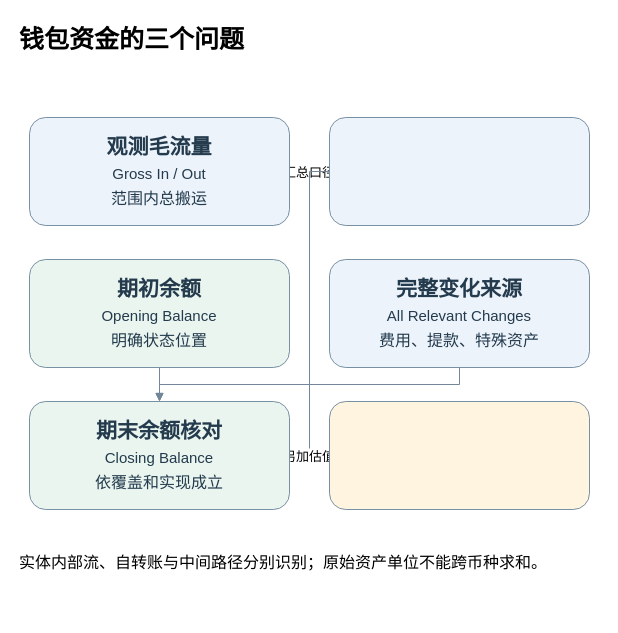
The diagram is 618 pixels wide and 633 high, and some of its shapes have lost their labels. Here are the shapes that lost their labels. From the top down, the box of each, then its label:
(328, 116, 590, 226): 净流量 Net Flow 转入减转出
(328, 400, 590, 510): 历史价值估算 Price at Time 缺失覆盖需报告
